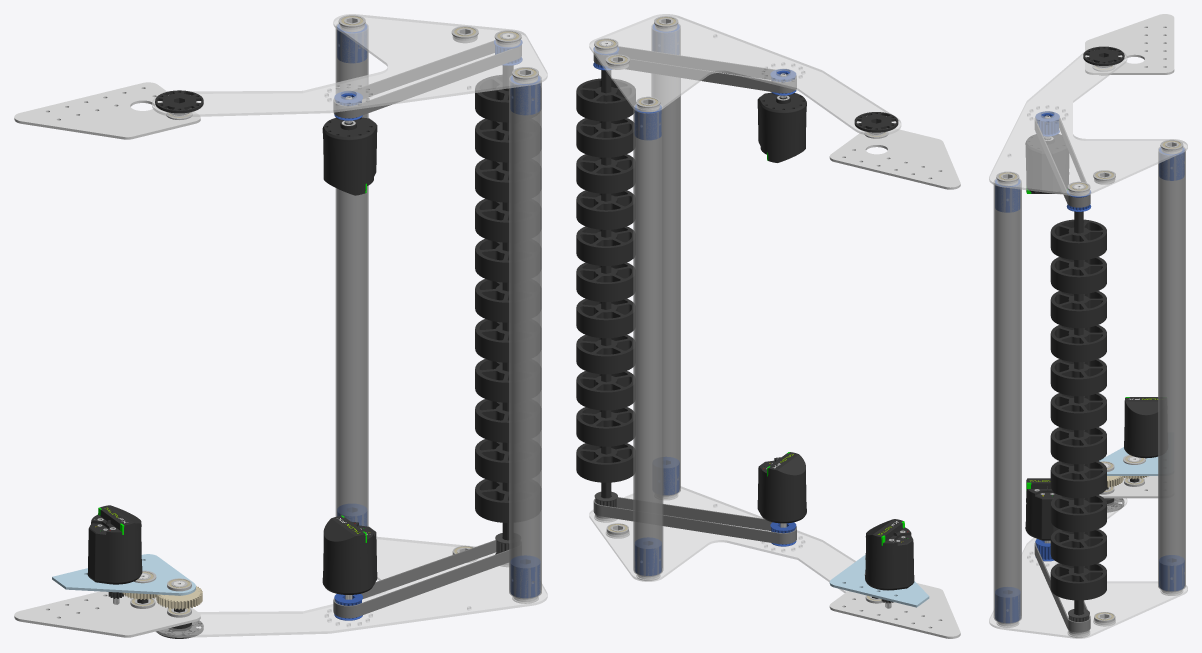
The picture shows the model from 3 angles, left to right: view 1: azimuth 30°, elevation 25°; view 2: azimuth 150°, elevation 25°; view 3: azimuth 270°, elevation 25°; orthographic projection. The views are drawn at different scales.
Parts seen in each view (by area): view 1: Part 2.040, Part 1.035, Part 2.039, Part 1.036, Part 6.004, Part 6.005, 115T HTD Belt.002, 115T HTD Belt.003, Kraken X60 Brushless Motor.012, Kraken X60 Brushless Motor.010, Kraken X60 Brushless Motor.011, Part 16.001 (+16 smaller); view 2: Part 2.039, Part 1.035, Part 2.040, Part 1.036, Part 6.004, 115T HTD Belt.002, 115T HTD Belt.003, Part 6.005, Kraken X60 Brushless Motor.012, Kraken X60 Brushless Motor.010, Kraken X60 Brushless Motor.011, 3" Thrifty Squish Wheel (45A, 1" Wide, 1/2" Hex Bore).063 (+16 smaller); view 3: Part 2.040, Part 2.039, Part 1.035, Part 1.036, Part 6.004, Kraken X60 Brushless Motor.011, Kraken X60 Brushless Motor.012, 3" Thrifty Squish Wheel (45A, 1" Wide, 1/2" Hex Bore).063, 3" Thrifty Squish Wheel (45A, 1" Wide, 1/2" Hex Bore).055, 3" Thrifty Squish Wheel (45A, 1" Wide, 1/2" Hex Bore).045, 3" Thrifty Squish Wheel (45A, 1" Wide, 1/2" Hex Bore).036, 3" Thrifty Squish Wheel (45A, 1" Wide, 1/2" Hex Bore).037 (+18 smaller).
Part boxes in pixels (x1=…): Part 2.040: x1=509, y1=75, x2=541, y2=598; Part 1.035: x1=152, y1=14, x2=547, y2=117; Part 2.039: x1=335, y1=23, x2=368, y2=526; Part 1.036: x1=156, y1=536, x2=547, y2=637; Part 6.004: x1=14, y1=82, x2=200, y2=139; Part 6.005: x1=14, y1=591, x2=200, y2=637; 115T HTD Belt.002: x1=333, y1=41, x2=521, y2=118; 115T HTD Belt.003: x1=333, y1=540, x2=509, y2=618; Kraken X60 Brushless Motor.012: x1=87, y1=505, x2=142, y2=604; Kraken X60 Brushless Motor.010: x1=322, y1=515, x2=377, y2=599; Kraken X60 Brushless Motor.011: x1=322, y1=96, x2=377, y2=195; Part 16.001: x1=52, y1=554, x2=195, y2=595; Part 2.039: x1=633, y1=104, x2=663, y2=576; Part 1.035: x1=589, y1=14, x2=901, y2=136; Part 2.040: x1=651, y1=23, x2=680, y2=495; Part 1.036: x1=589, y1=486, x2=855, y2=592; Part 6.004: x1=829, y1=128, x2=960, y2=189; 115T HTD Belt.002: x1=593, y1=46, x2=796, y2=93; 115T HTD Belt.003: x1=593, y1=497, x2=796, y2=544; Part 6.005: x1=829, y1=583, x2=960, y2=638; Kraken X60 Brushless Motor.012: x1=865, y1=519, x2=914, y2=608; Kraken X60 Brushless Motor.010: x1=757, y1=452, x2=806, y2=527; Kraken X60 Brushless Motor.011: x1=757, y1=73, x2=806, y2=162; 3" Thrifty Squish Wheel (45A, 1" Wide, 1/2" Hex Bore).063: x1=576, y1=78, x2=635, y2=121; Part 2.040: x1=993, y1=178, x2=1021, y2=623; Part 2.039: x1=1158, y1=147, x2=1185, y2=591; Part 1.035: x1=989, y1=52, x2=1187, y2=196; Part 1.036: x1=989, y1=498, x2=1187, y2=638; Part 6.004: x1=1085, y1=14, x2=1174, y2=74; Kraken X60 Brushless Motor.011: x1=1025, y1=115, x2=1068, y2=193; Kraken X60 Brushless Motor.012: x1=1124, y1=397, x2=1158, y2=458; 3" Thrifty Squish Wheel (45A, 1" Wide, 1/2" Hex Bore).063: x1=1050, y1=219, x2=1106, y2=260; 3" Thrifty Squish Wheel (45A, 1" Wide, 1/2" Hex Bore).055: x1=1050, y1=359, x2=1106, y2=396; 3" Thrifty Squish Wheel (45A, 1" Wide, 1/2" Hex Bore).045: x1=1050, y1=563, x2=1106, y2=600; 3" Thrifty Squish Wheel (45A, 1" Wide, 1/2" Hex Bore).036: x1=1050, y1=461, x2=1106, y2=498; 3" Thrifty Squish Wheel (45A, 1" Wide, 1/2" Hex Bore).037: x1=1050, y1=529, x2=1106, y2=566.
Bounding box in the file's own units: 0.6248 × 0.6699 × 0.269.
